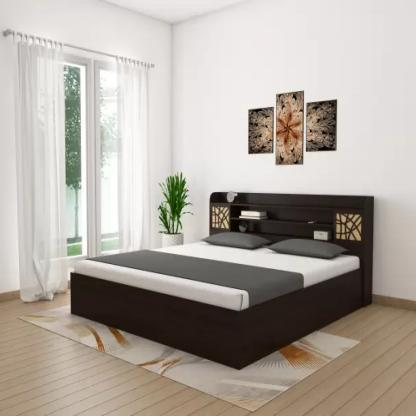bed: (66, 190, 386, 370)
door: (87, 57, 126, 257), (52, 52, 87, 259)
